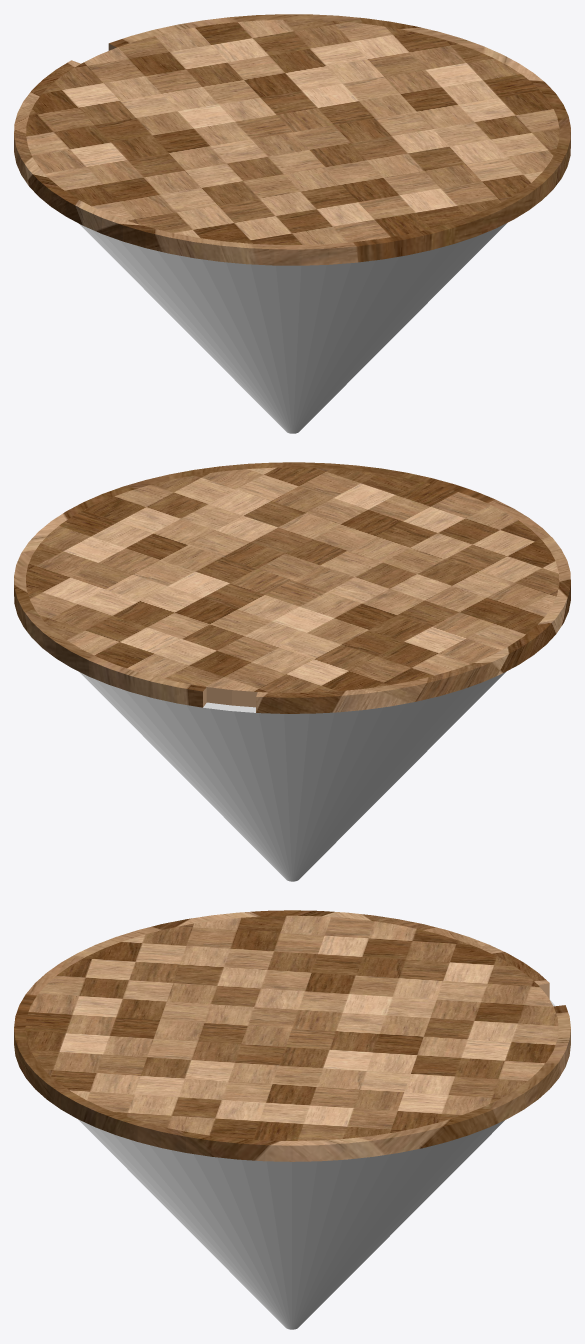
Rendered from table.glb.
3 renders of one model, top to bottom at view 1: azimuth 30°, elevation 25°; view 2: azimuth 150°, elevation 25°; view 3: azimuth 270°, elevation 25°, orthographic.
Parts seen in each view (by area): view 1: Circle.004; view 2: Circle.004; view 3: Circle.004.
Boxes of the visible parts, box(x1,y1,x2,y2) form: Circle.004: box(14, 14, 570, 433); Circle.004: box(14, 462, 570, 881); Circle.004: box(14, 910, 570, 1329).
Bounding box in the file's own units: 1.16 × 0.6838 × 1.16.
Materials: 2 (1 with a texture image).
